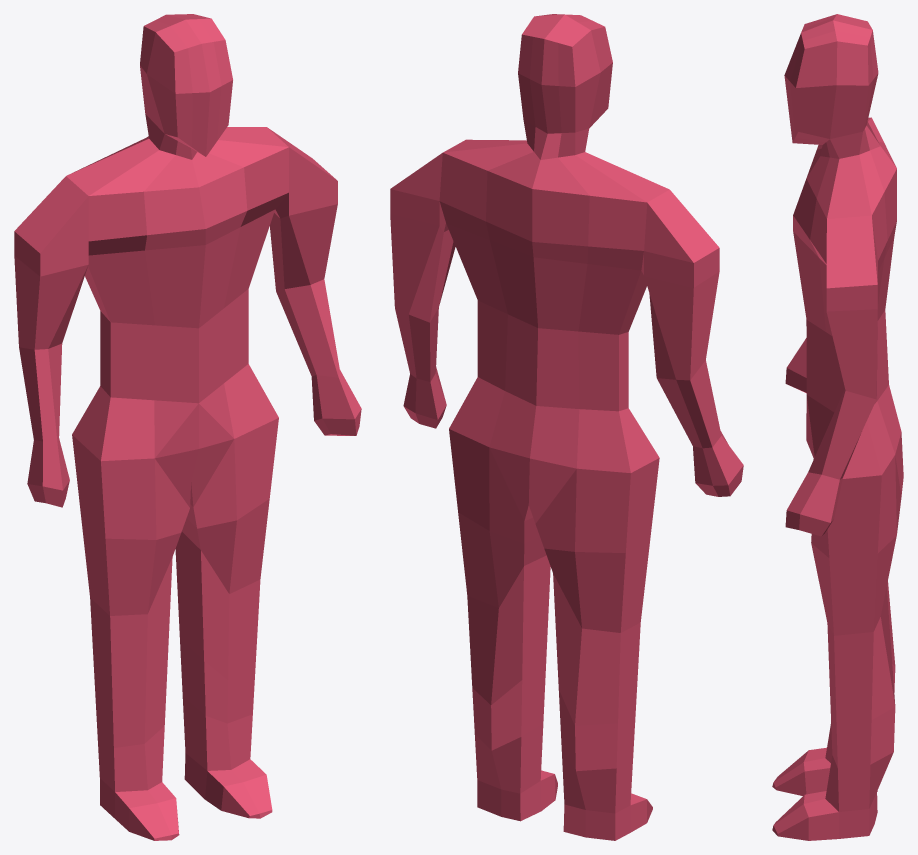
File: PinkPerson.fbx
The picture shows the model from 3 angles, left to right: view 1: azimuth 30°, elevation 25°; view 2: azimuth 150°, elevation 25°; view 3: azimuth 270°, elevation 25°; orthographic projection.
Visible parts, largest first — view 1: Cube; view 2: Cube; view 3: Cube.
Part boxes in pixels (x1,y1,x2,y2): Cube: (14,14,361,840); Cube: (390,14,743,840); Cube: (772,14,903,840).
Size of the model in its own units: 344 by 812 by 123.
